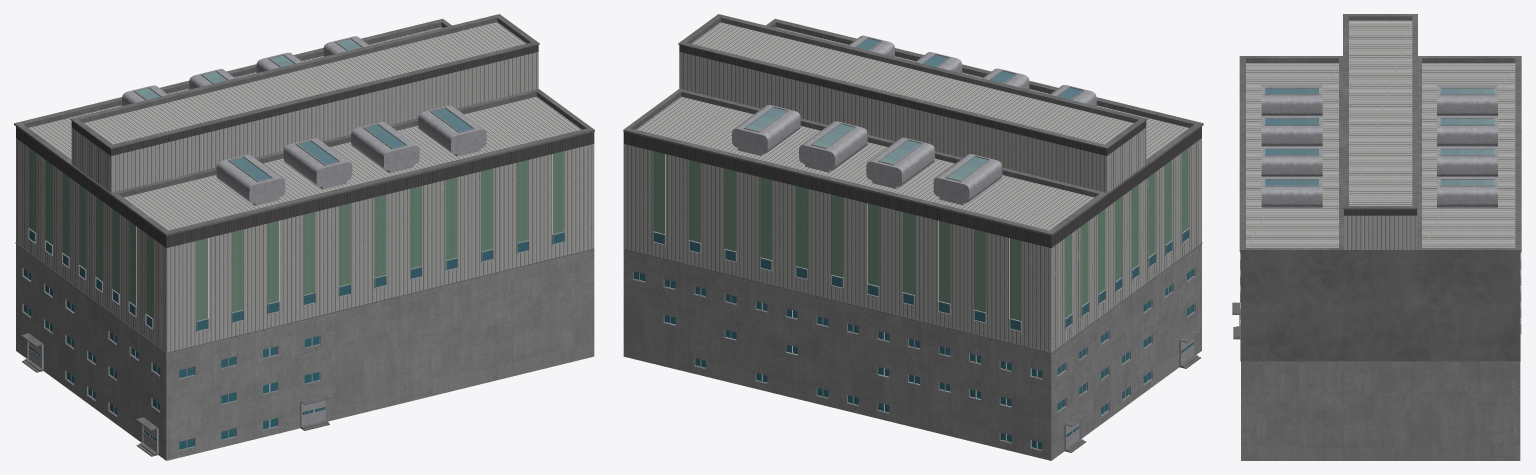
The model's file is 造球室.glb.
3 renders of one model, left to right at view 1: azimuth 30°, elevation 25°; view 2: azimuth 150°, elevation 25°; view 3: azimuth 270°, elevation 25°, orthographic. The views are drawn at different scales.
Visible parts, largest first — view 1: 造球室001, 造球室005, 造球室006, 造球室002, 造球室004, 造球室003, 造球室007; view 2: 造球室001, 造球室005, 造球室002, 造球室006, 造球室004, 造球室003, 造球室007; view 3: 造球室006, 造球室001, 造球室005, 造球室004, 造球室007, 造球室003.
Part boxes in pixels (x1,y1,x2,y2): 造球室001: (16, 22, 594, 352); 造球室005: (16, 244, 594, 460); 造球室006: (14, 14, 594, 456); 造球室002: (29, 148, 564, 321); 造球室004: (23, 36, 564, 453); 造球室003: (16, 45, 594, 247); 造球室007: (24, 39, 563, 449); 造球室001: (623, 22, 1201, 352); 造球室005: (623, 244, 1201, 460); 造球室002: (653, 148, 1188, 320); 造球室006: (623, 14, 1203, 452); 造球室004: (633, 35, 1195, 450); 造球室003: (623, 45, 1201, 247); 造球室007: (634, 38, 1193, 449); 造球室006: (1232, 14, 1521, 361); 造球室001: (1246, 20, 1515, 249); 造球室005: (1241, 361, 1520, 460); 造球室004: (1239, 85, 1521, 337); 造球室007: (1265, 88, 1494, 185); 造球室003: (1344, 209, 1416, 215).
Bounding box in the file's own units: 46.99 × 28.04 × 29.04.
Materials: 7 (7 with a texture image).
